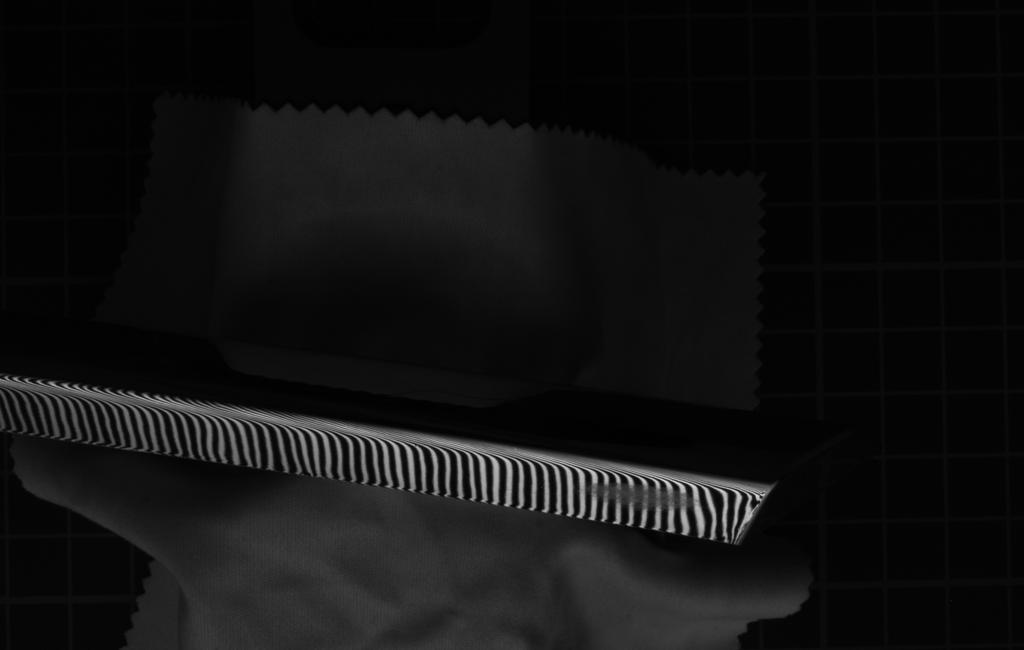Pitting: (569, 479, 716, 511)
